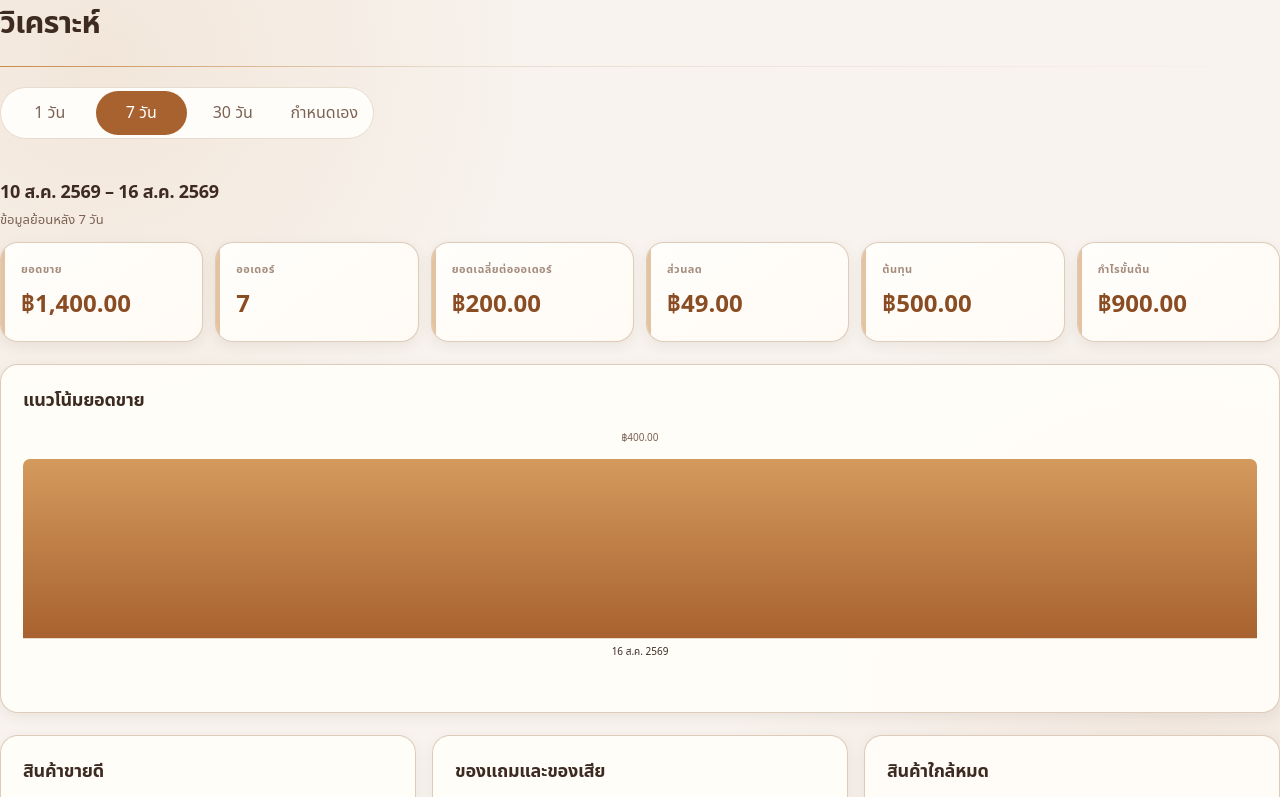
it: AnalyticsPage › custom range › explains an invalid range and does not request it
The image size is (1280, 797).
Click the button "กำหนดเอง": (324, 113) [278,91,370,135]
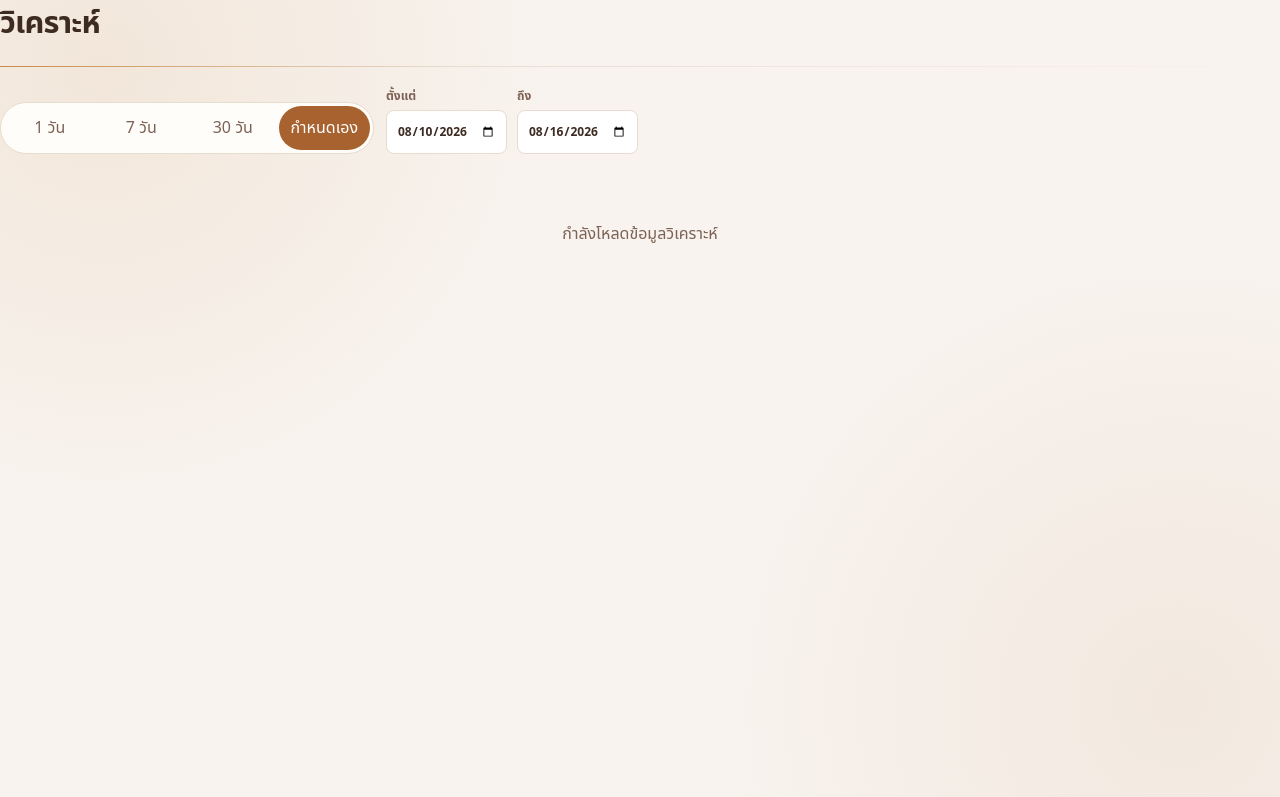
In the date field labelled "ตั้งแต่": (446, 132) [386,110,507,154], type "2026-08-20"
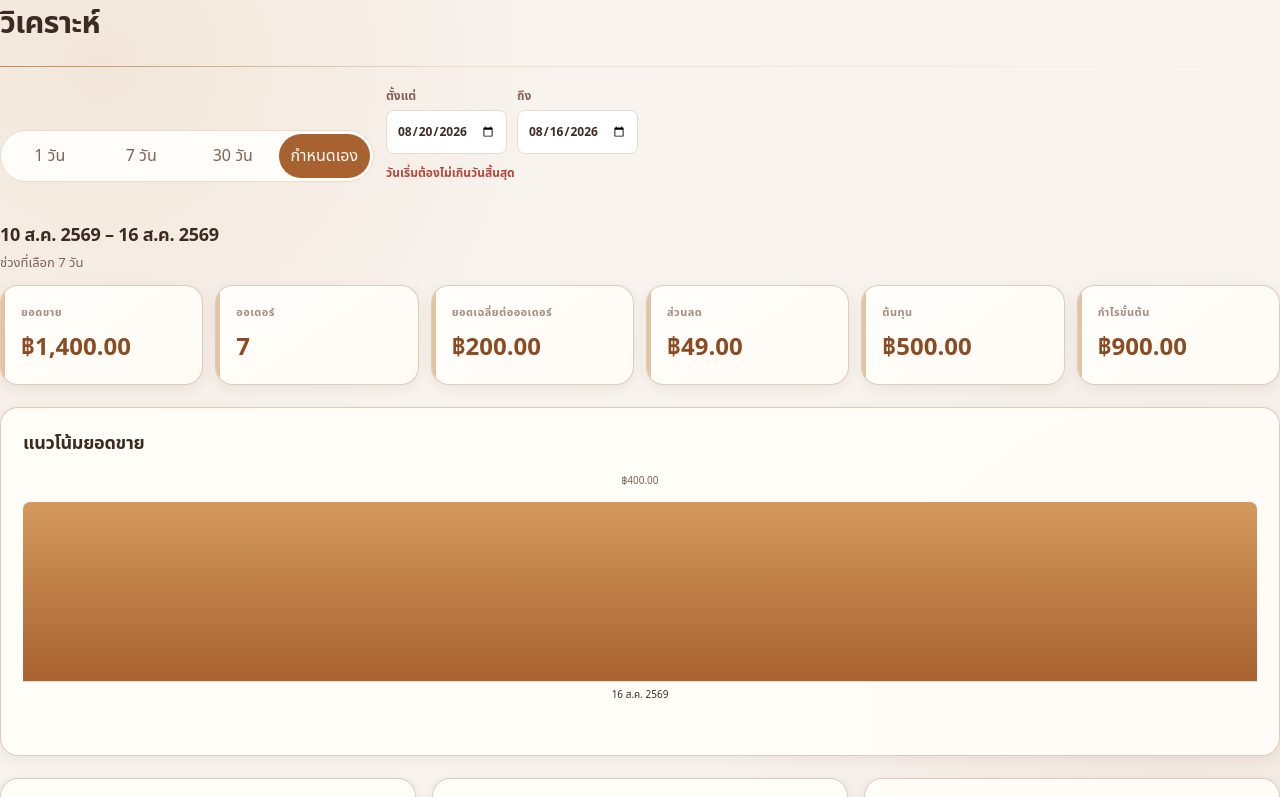
Now the message reads "วันเริ่มต้องไม่เกินวันสิ้นสุด", box [386,164,515,182]
